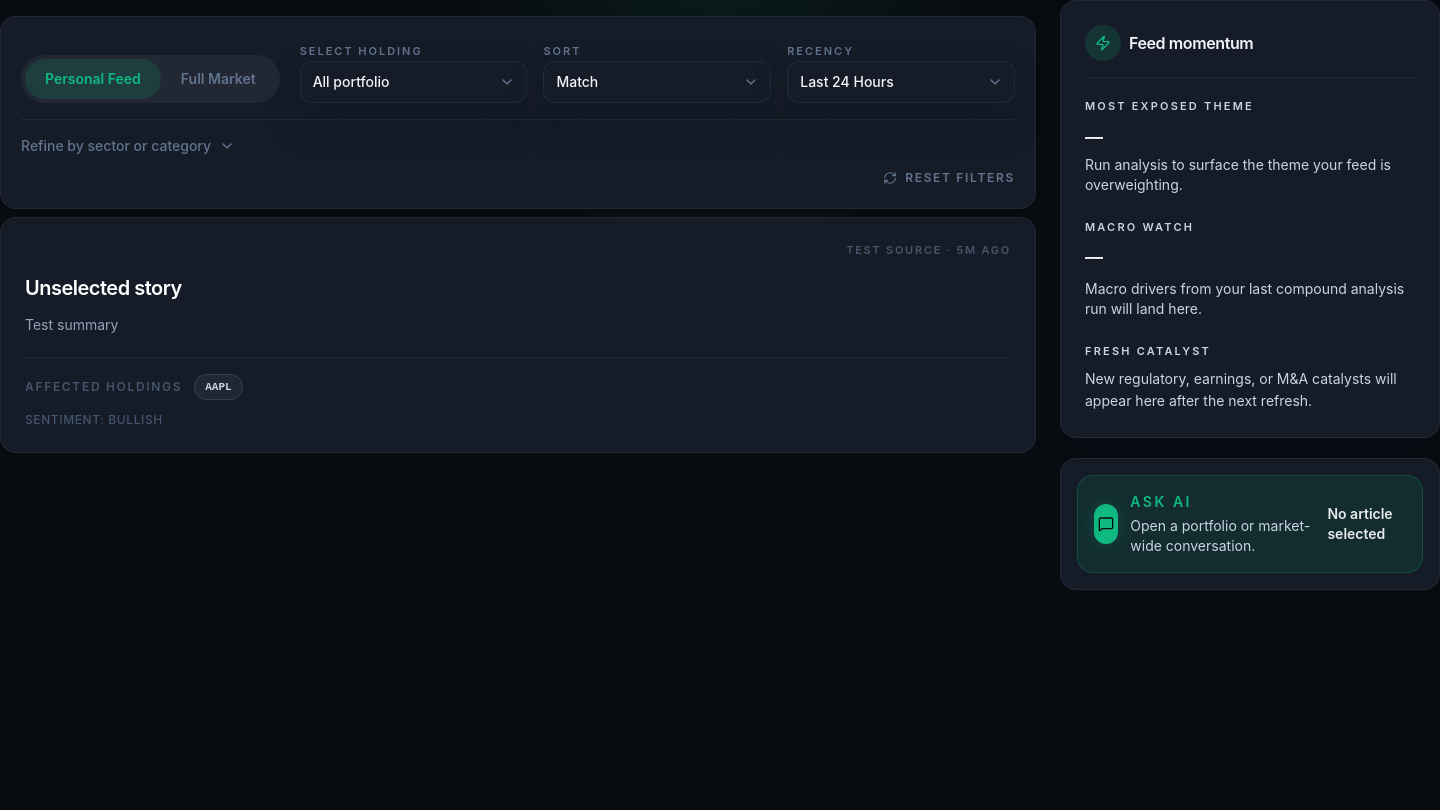
Test: FeedView › opens generic Ask AI chat when no story is selected
Step 1. Click the button with test id "global-ask-ai-button" → x=1250, y=524, box [1077,475,1423,573]
(page scrolled)
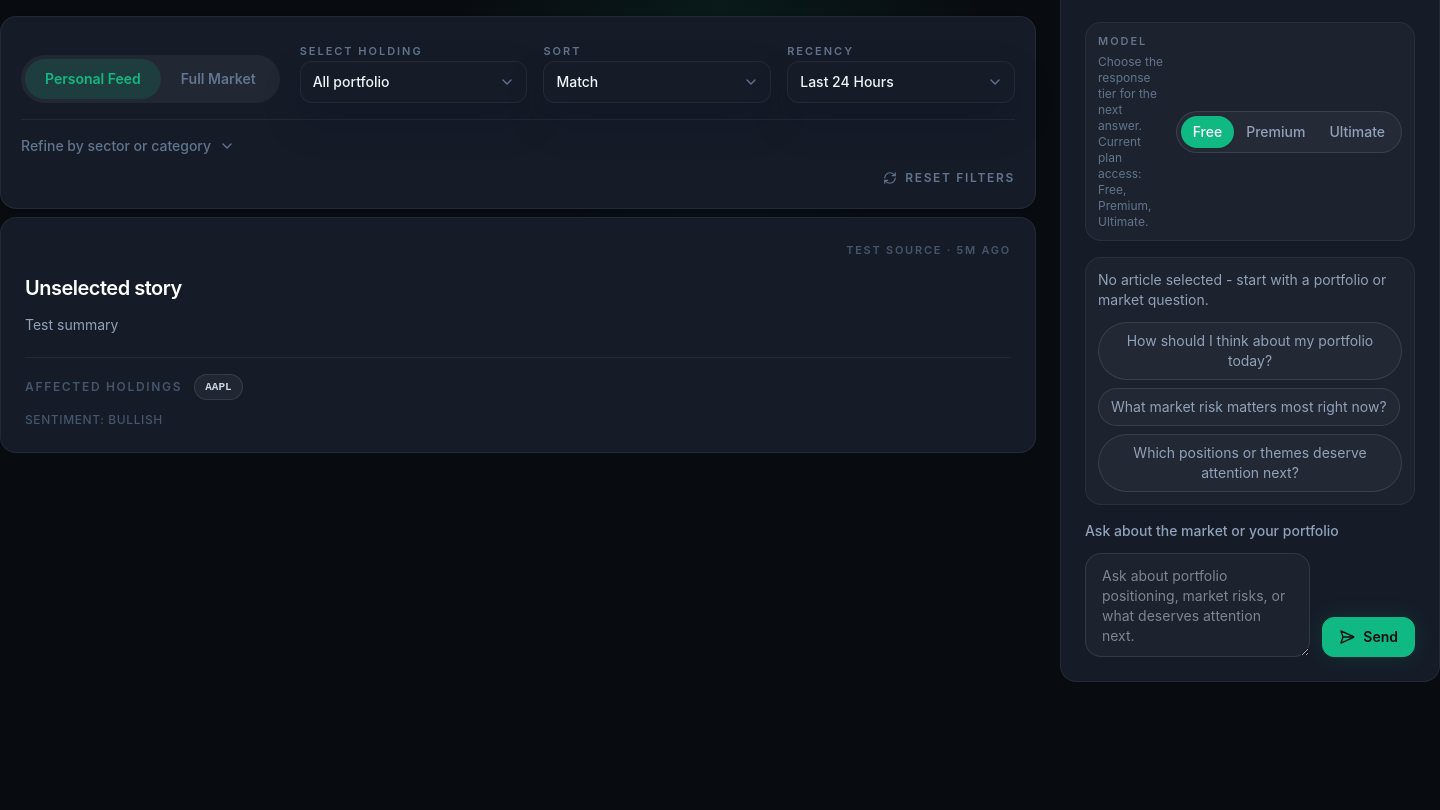
Step 2. Replace the text in the text box labelled "Ask about the market or your portfolio" with "How should I think about my portfolio today?" → x=1198, y=605, box [1085,553,1310,657]
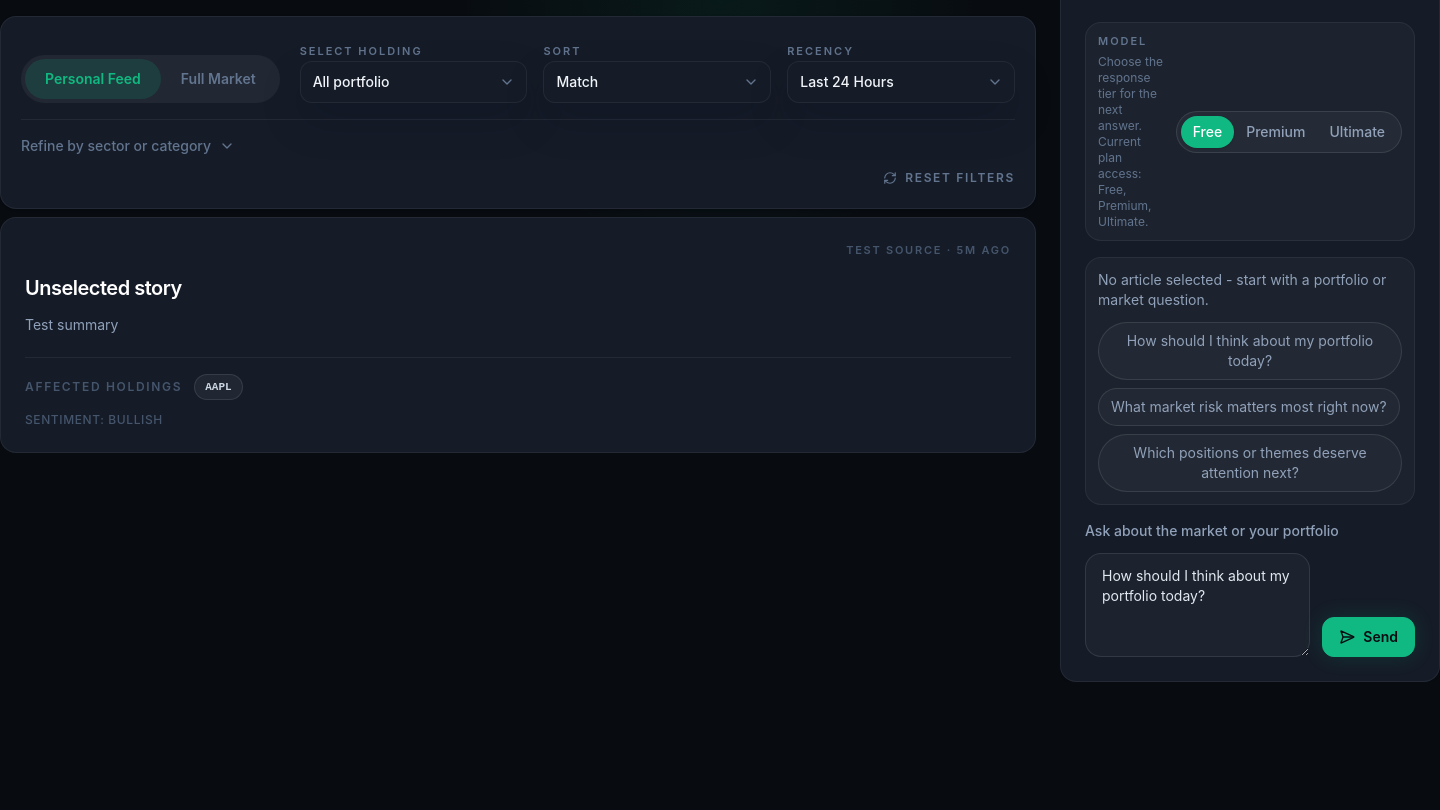
Step 3. Click the button "Send" → x=1369, y=637, box [1322,617,1415,657]
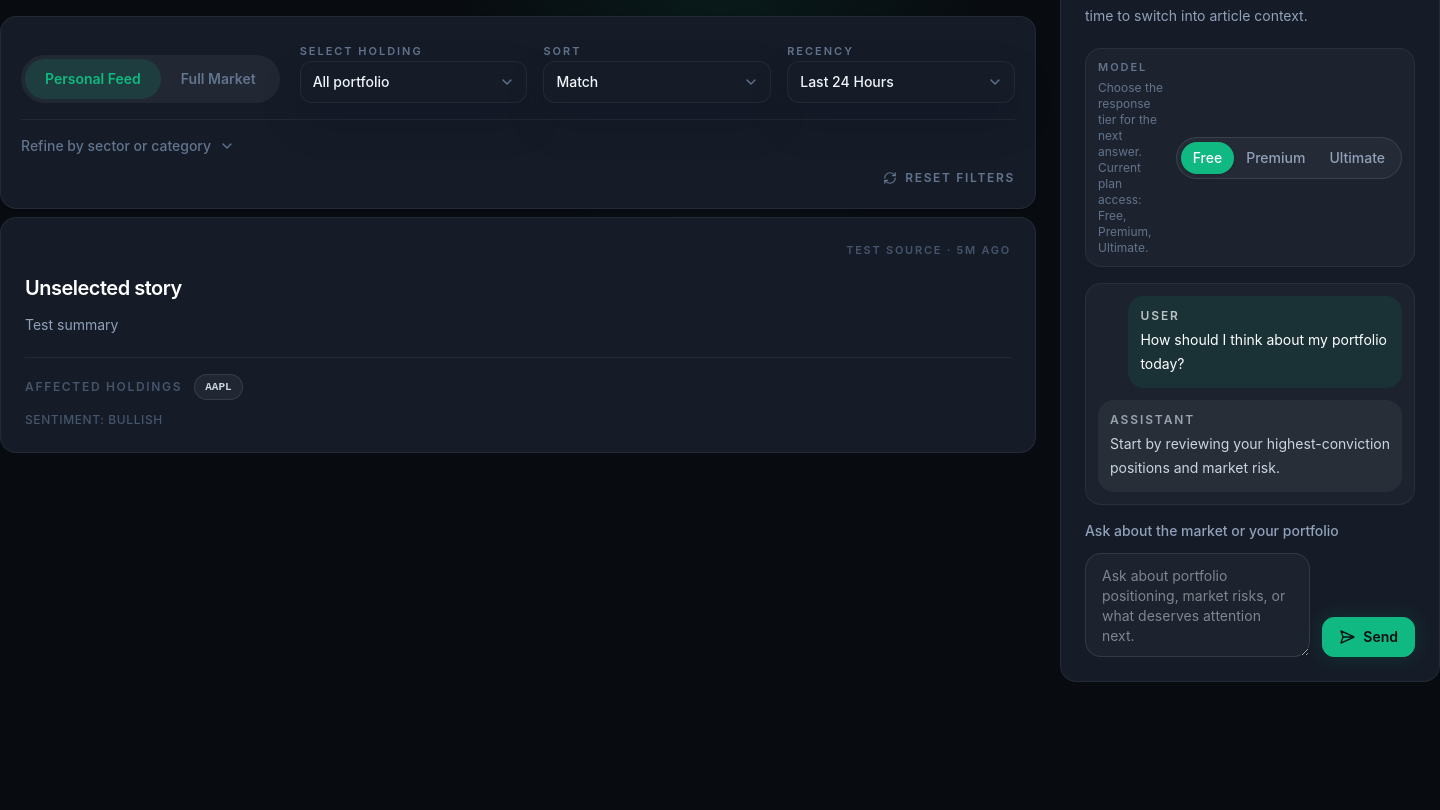
Expected: the text "highest-conviction positions" is shown, [1110,435,1394,476]
